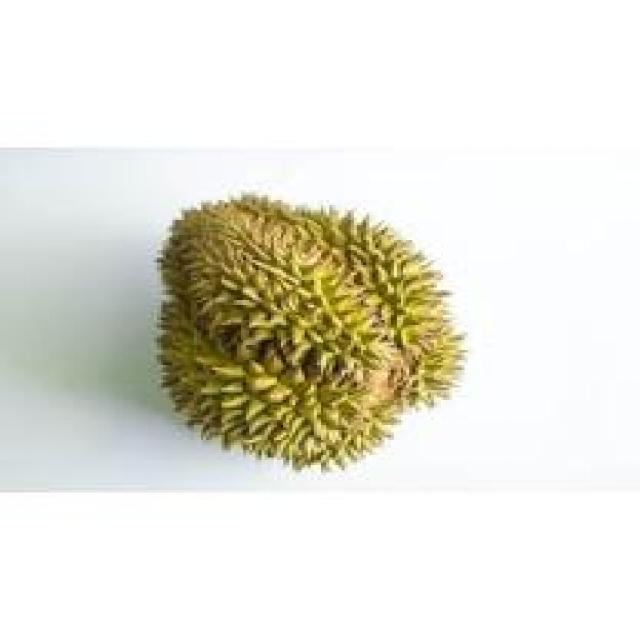fruit: (129, 172, 486, 502)
